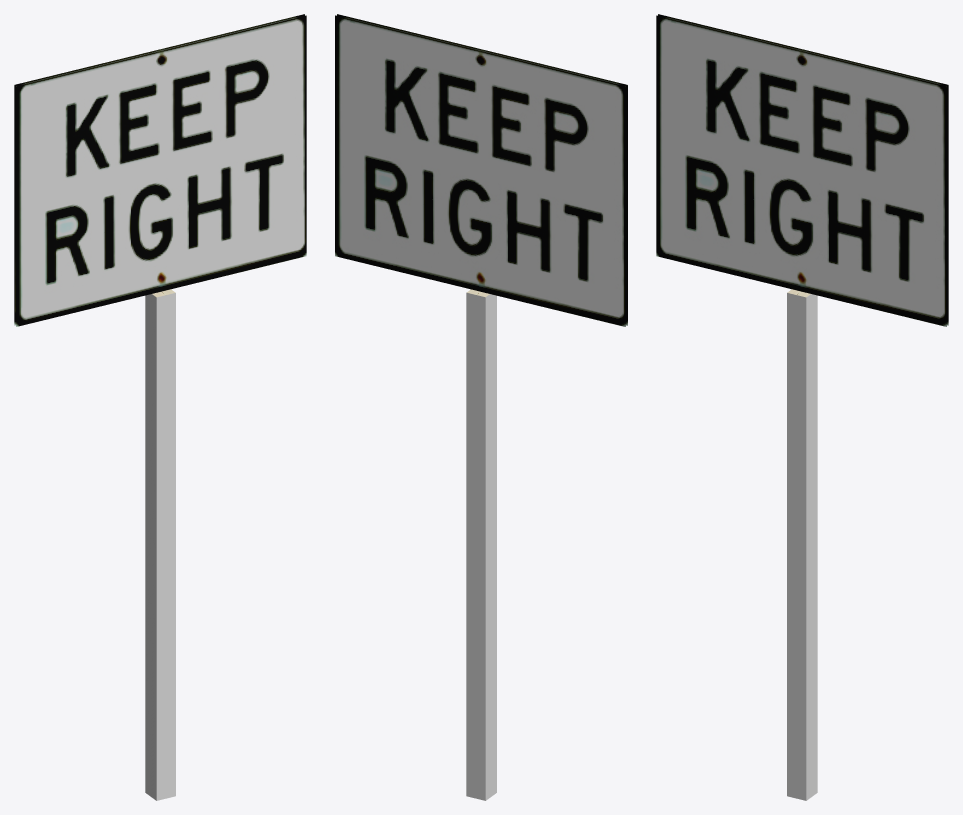
File: sign06.FBX
The picture shows the model from 3 angles, left to right: view 1: azimuth 30°, elevation 25°; view 2: azimuth 150°, elevation 25°; view 3: azimuth 330°, elevation 25°; orthographic projection.
Visible parts, largest first — view 1: sign06-keepright; view 2: sign06-keepright; view 3: sign06-keepright.
Part boxes in pixels (x1=…): sign06-keepright: x1=14, y1=14, x2=306, y2=800; sign06-keepright: x1=335, y1=14, x2=627, y2=800; sign06-keepright: x1=656, y1=14, x2=948, y2=800.
Size of what is drawn, in the model's own units: 0.9066 by 0.06 by 2.22.
